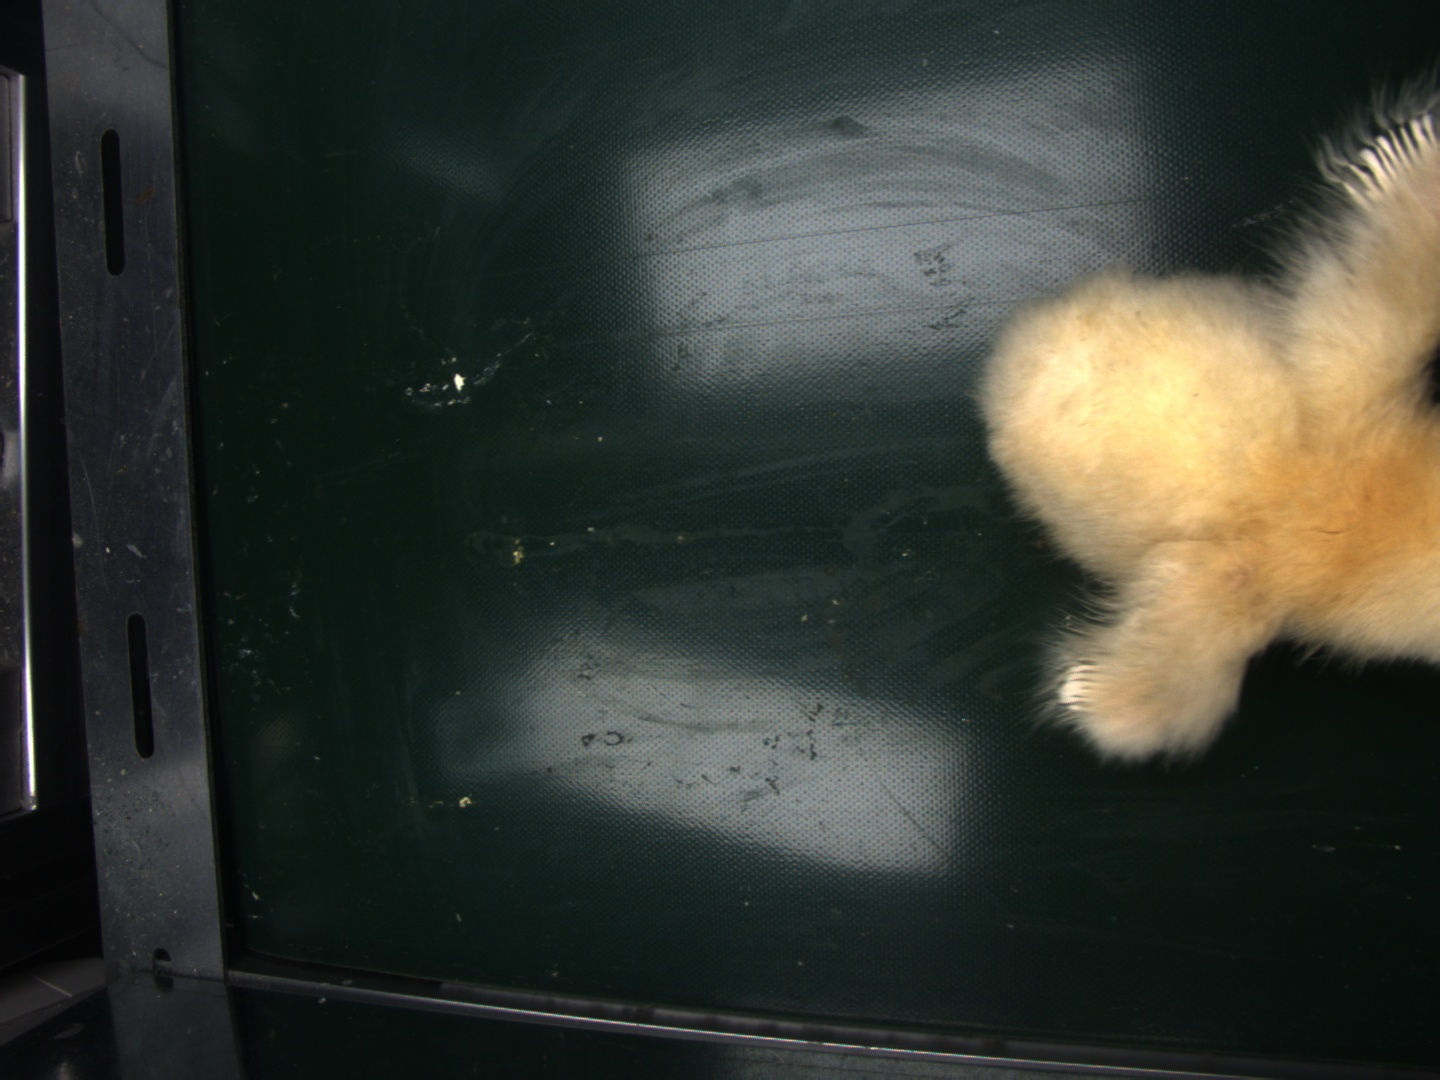male: (1341, 116, 1438, 205)
